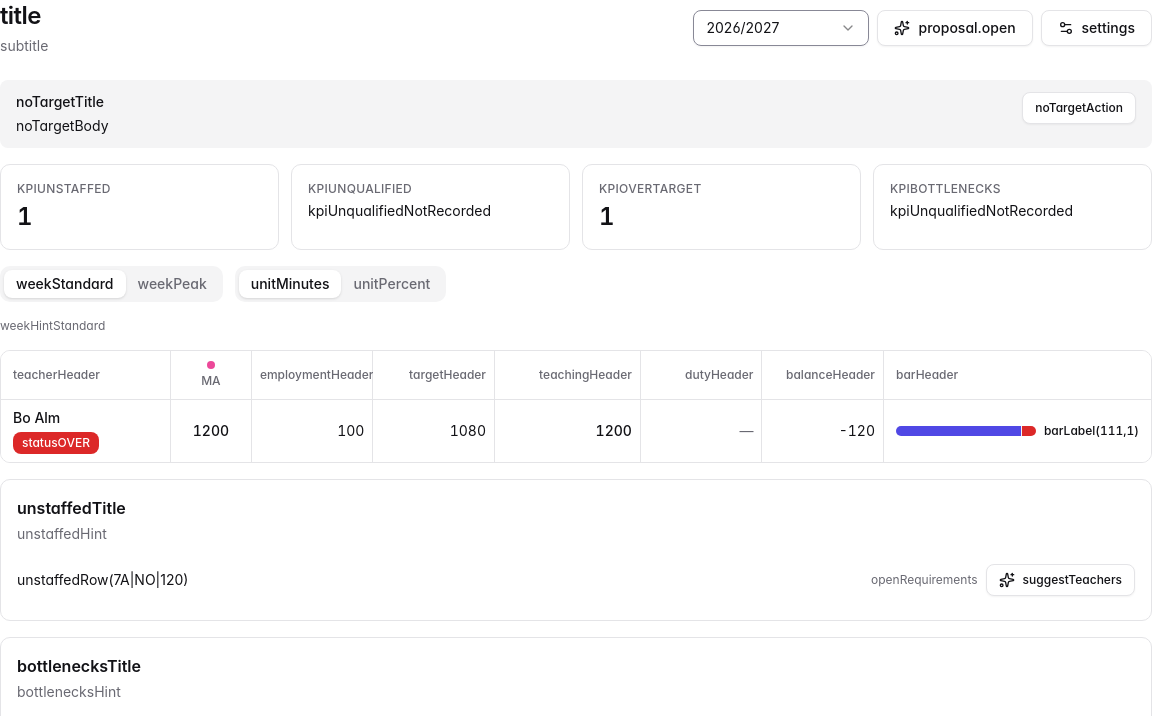
Test: StaffingPage › opens the drawer for a teacher
Click the button with aria-label "openDrawer(Bo Alm)".
click(56, 431)  # box [13,408,99,454]
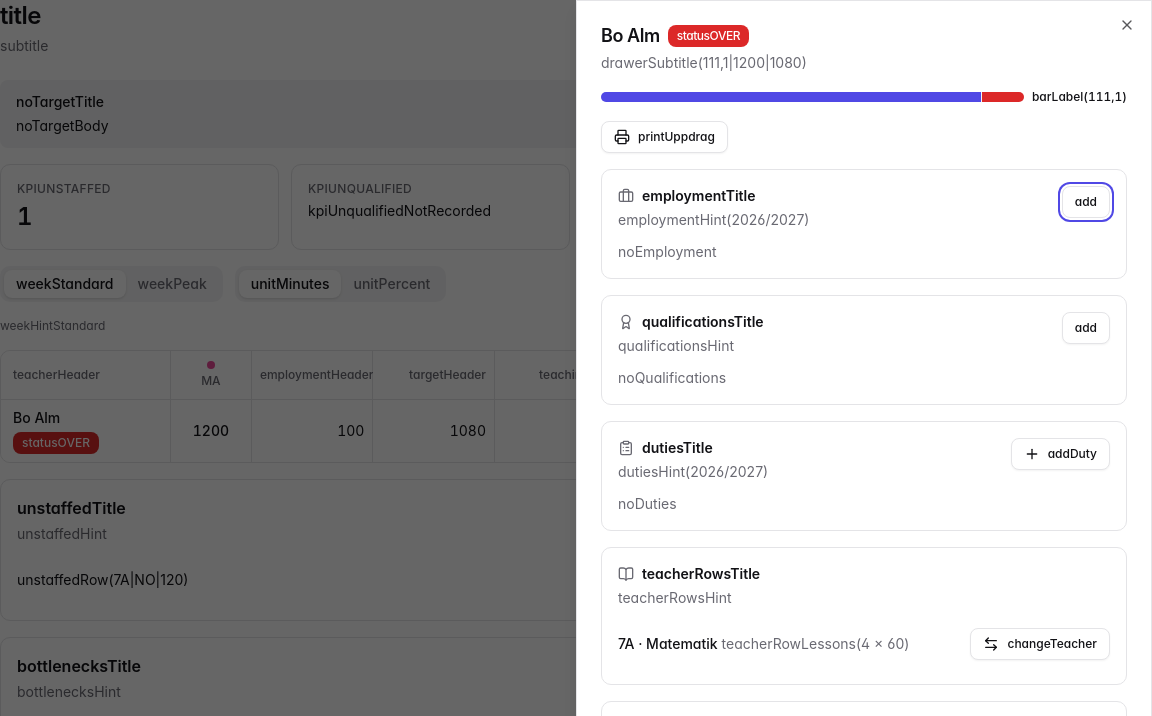
Expected: the dialog shows "employmentTitle", [642,187,756,204]
Expected: the dialog shows "qualificationsTitle", [642,313,764,330]
Expected: the dialog shows "drawerSubtitle(111,1|1200|1080)", [601,54,807,71]
